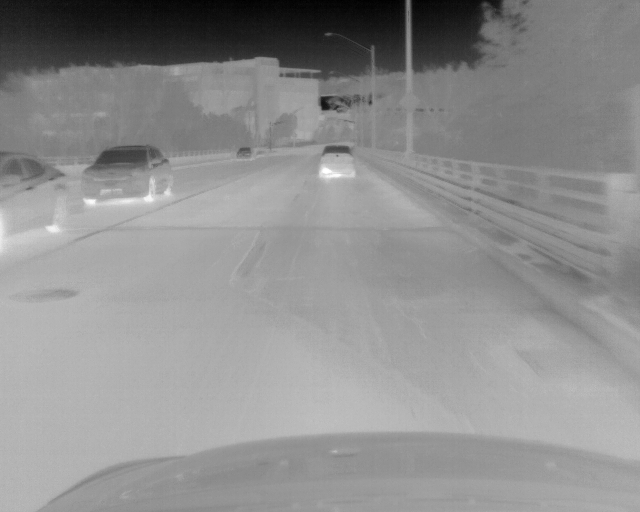car: (1, 154, 70, 236), (81, 146, 173, 205), (318, 144, 354, 177), (236, 145, 252, 160)
